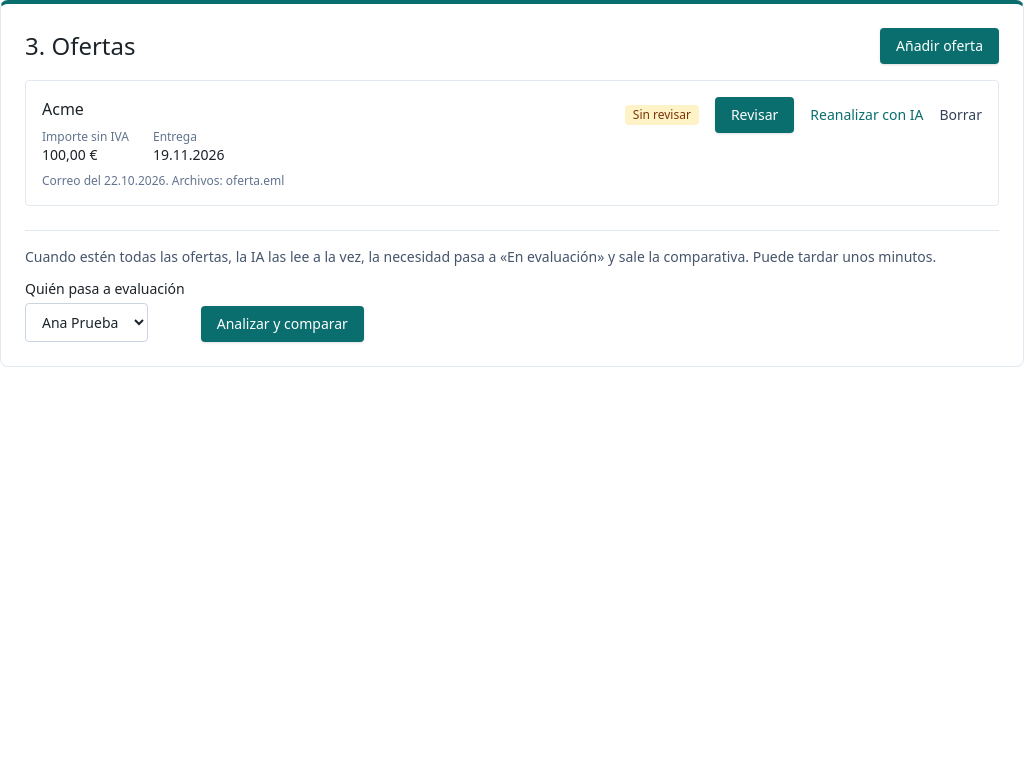
SeccionOfertas › al guardar y dar por revisada, solo se cierra el editor y la pantalla vuelve a esa oferta
Step 1. Click the button with aria-label "Revisar la oferta de Acme" → (755, 115), box [715,97,794,133]
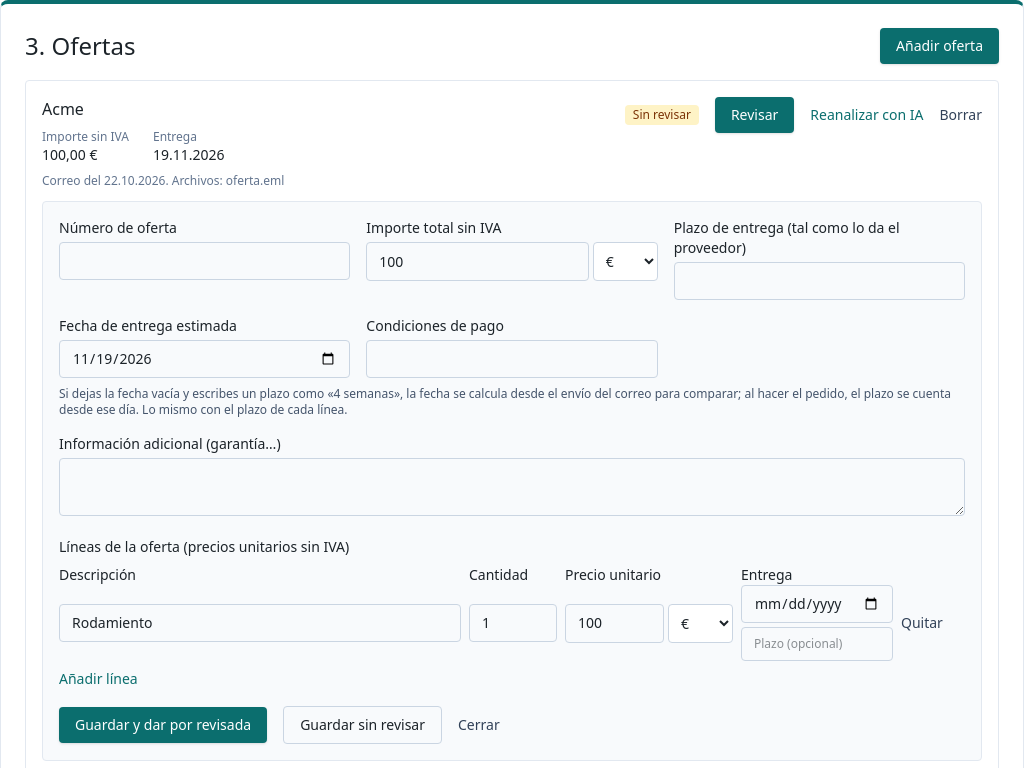
// Al cerrarse el editor, sin esto lo que había debajo (la comparativa) subía a la vista.
Step 2. Click the button "Guardar y dar por revisada" → (163, 725), box [59,707,267,743]
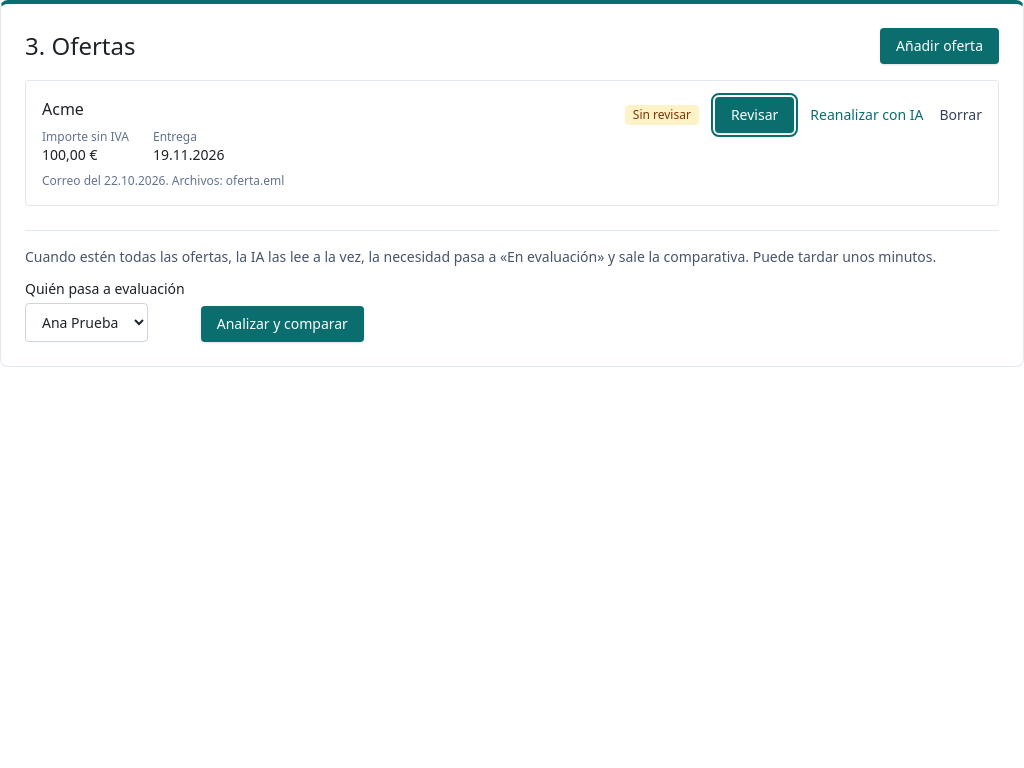
Now the button "Guardar y dar por revisada" is gone
